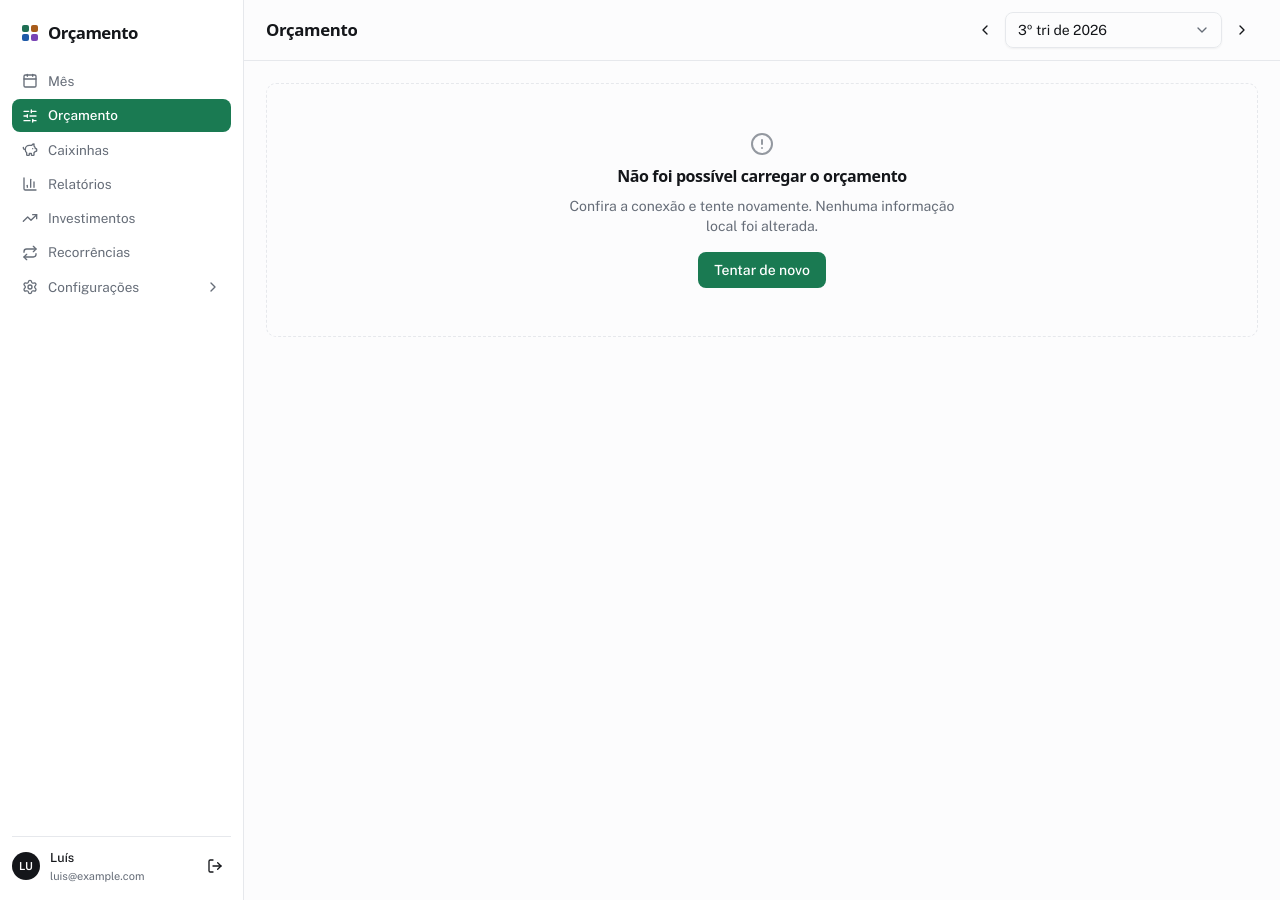
BudgetPage › offers retry for a recoverable loading failure
The width and height of the screenshot is (1280, 900).
Click the button "Tentar de novo" at (762, 270), box top-left (698, 252), bottom-right (826, 288)
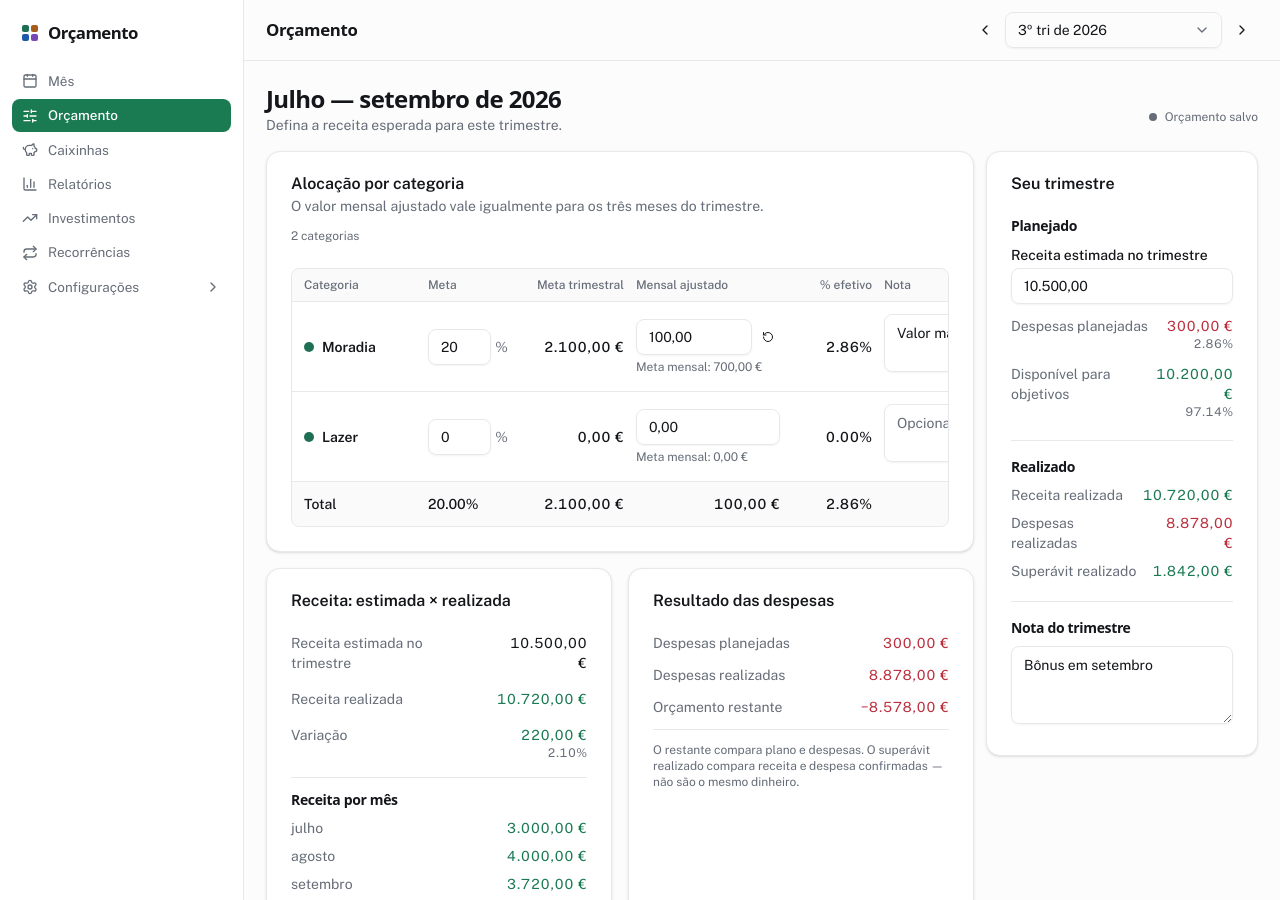
Expected: the field showing "10.500,00" is shown, top-left (1011, 268), bottom-right (1233, 304)
